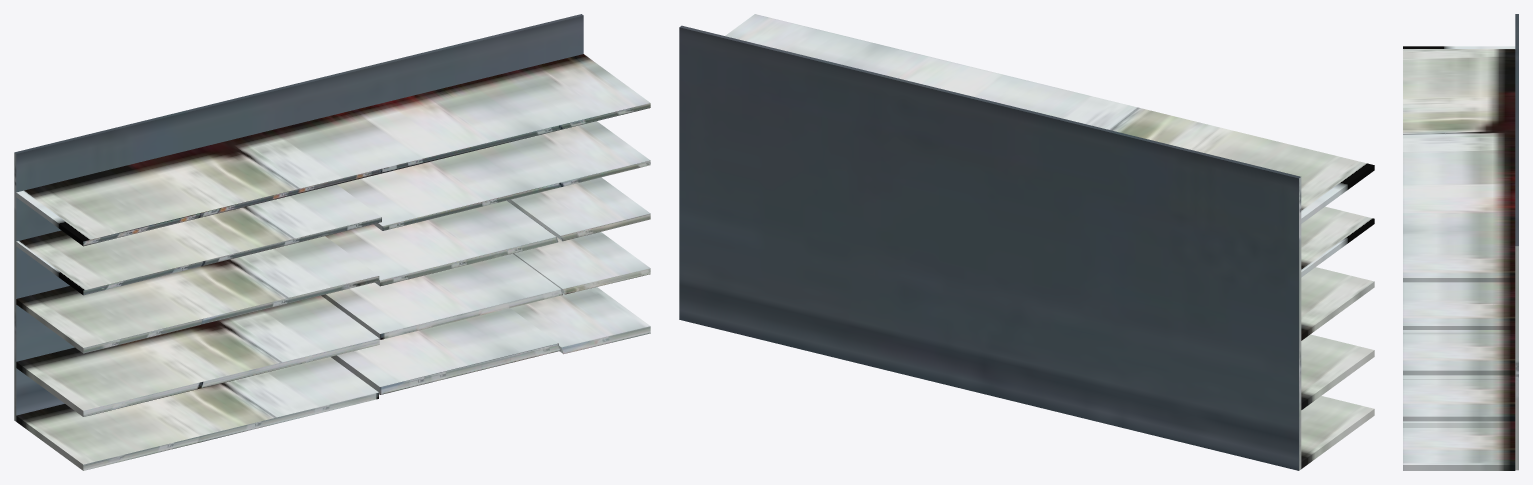
The model's file is EmptyShelf-Completely.fbx.
3 views of the same model, side by side, from view 1: azimuth 30°, elevation 25°; view 2: azimuth 150°, elevation 25°; view 3: azimuth 270°, elevation 25° (orthographic). The views are drawn at different scales.
Parts seen in each view (by area): view 1: Supermarket Chips Shelf; view 2: Supermarket Chips Shelf; view 3: Supermarket Chips Shelf.
Boxes of the visible parts, bbox=[...] form: Supermarket Chips Shelf: bbox=[14, 14, 650, 470]; Supermarket Chips Shelf: bbox=[679, 14, 1374, 470]; Supermarket Chips Shelf: bbox=[1403, 14, 1518, 470].
Size of the model in its own units: 57.49 by 272 by 123.
1 material, 1 textured.
